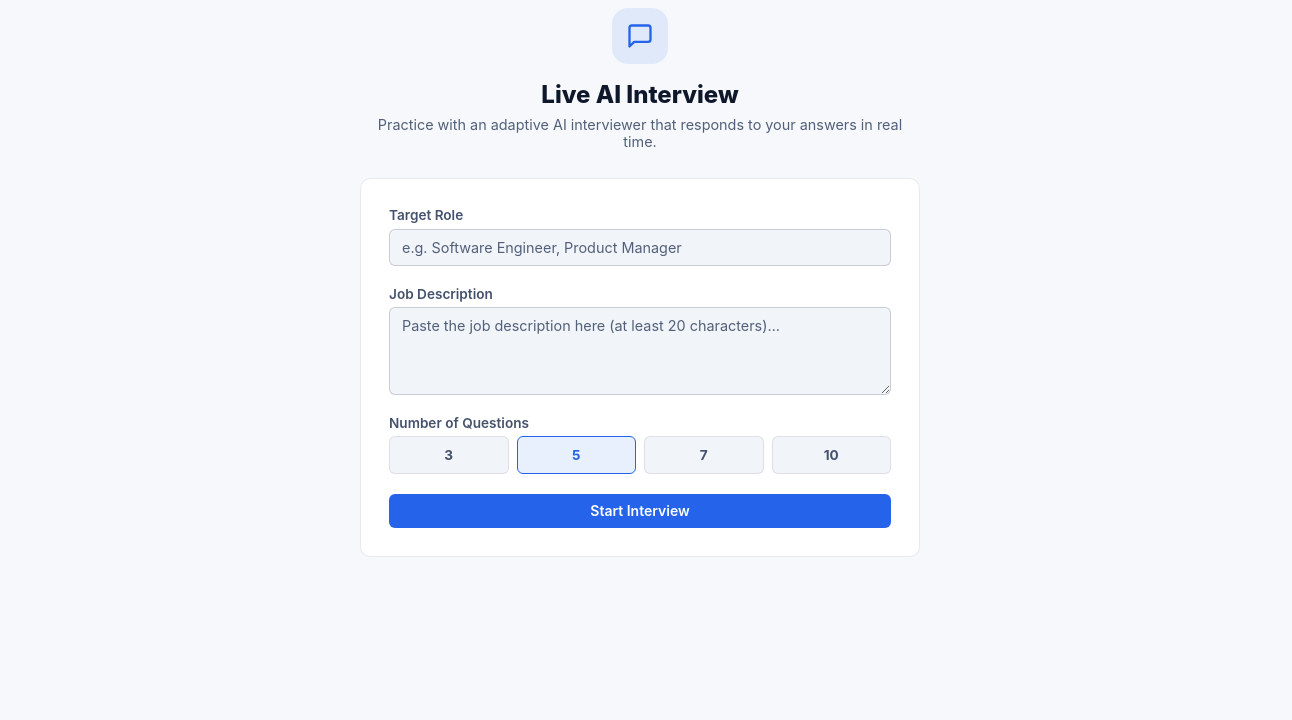
LiveInterviewPage › starts the interview and shows current question
This screenshot has width=1292, height=720.
Type "Software Engineer" into the field labelled "Target Role" at (640, 247), box [389, 229, 891, 266]
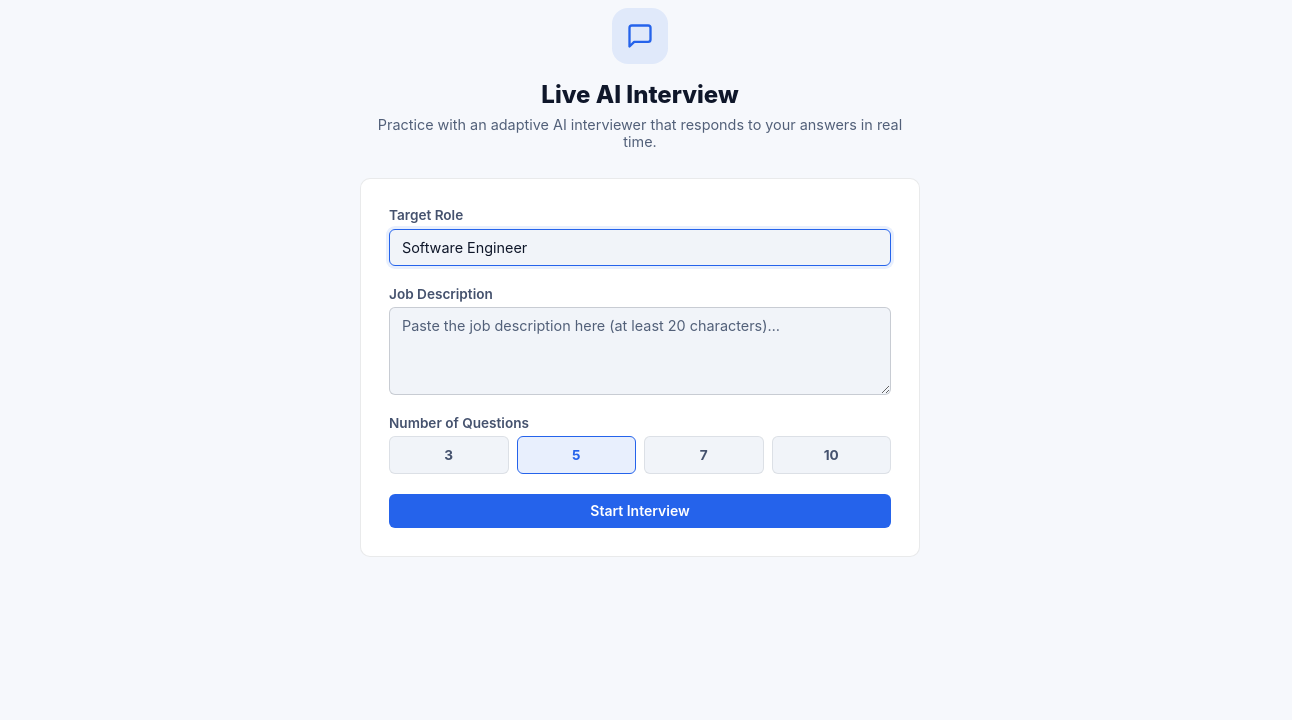
Type "A Python backend engineering role with FastAPI." into the text box labelled "Job Description" at (640, 351), box [389, 307, 891, 395]
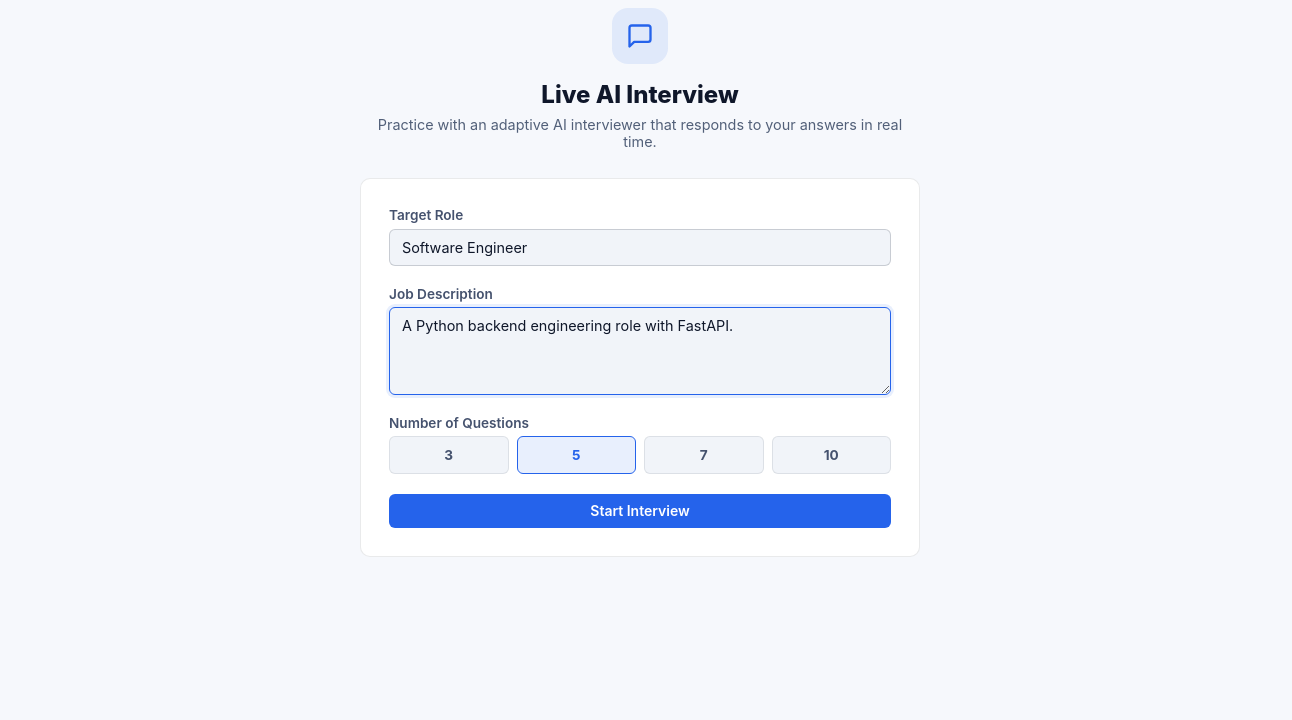
Click the button "Start Interview" at (640, 511), box [389, 494, 891, 528]
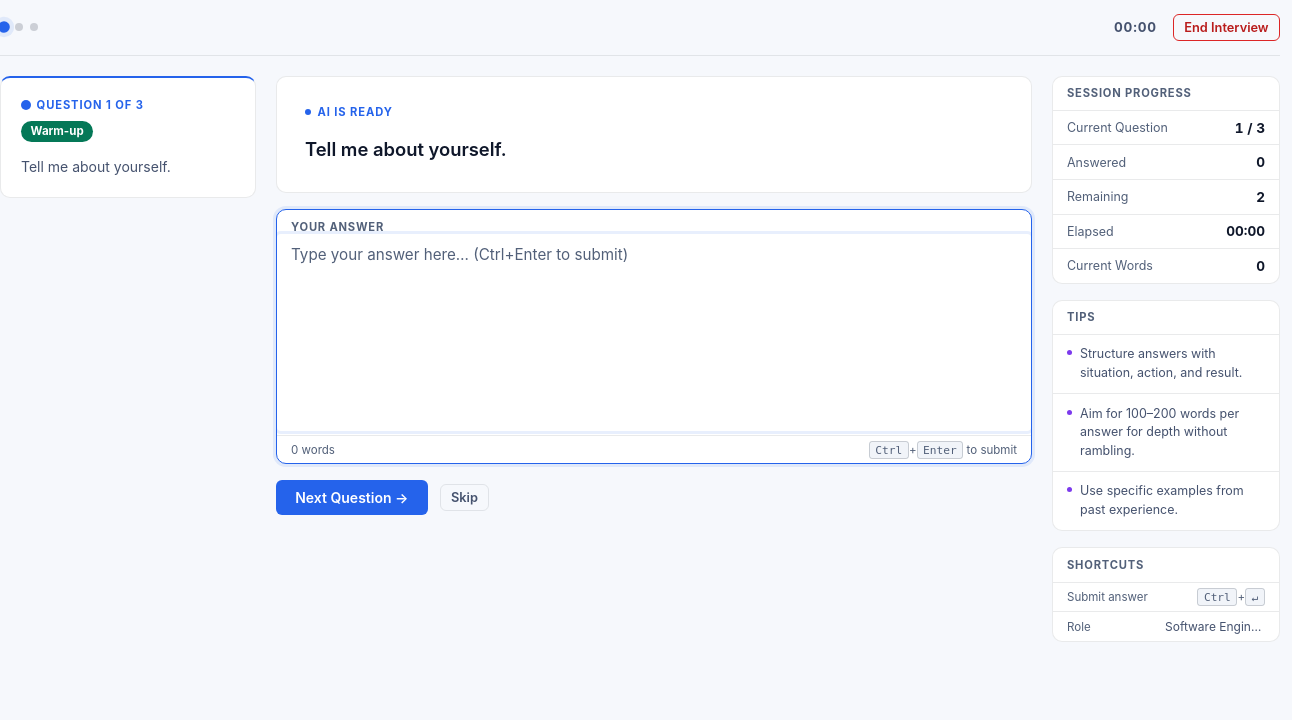
Result: the text with test id "current-question" reads "Tell me about yourself." at [305, 138, 506, 160]
